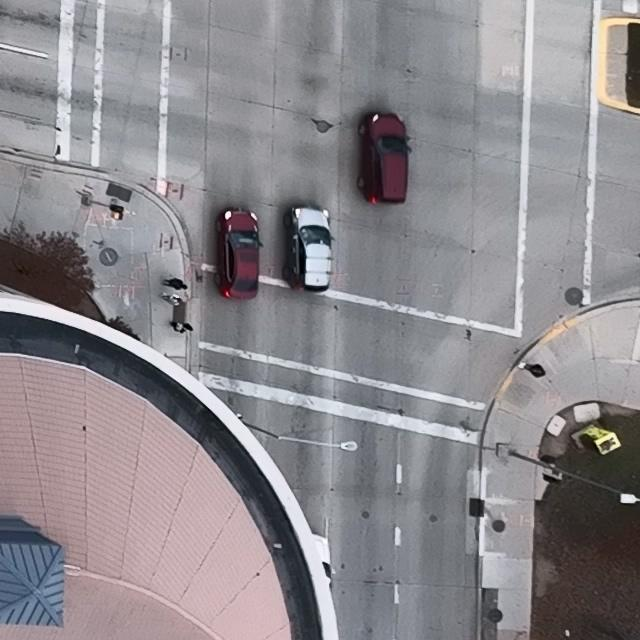car: (359, 113, 412, 206), (281, 205, 335, 293), (214, 208, 263, 300)
